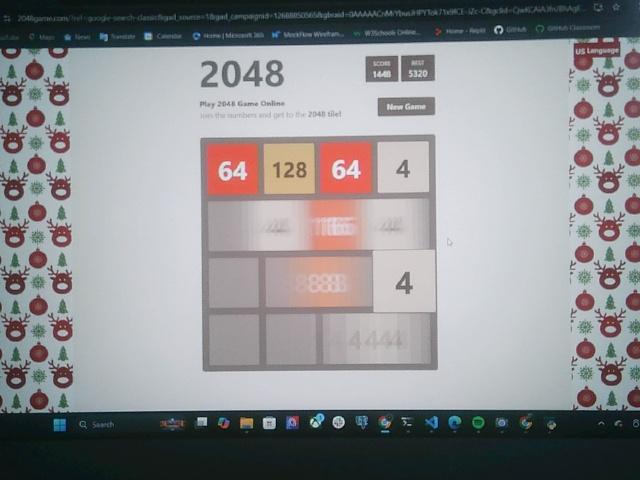board: (201, 137, 434, 366)
tile: (373, 250, 436, 313), (207, 143, 258, 195), (378, 141, 430, 192), (321, 142, 372, 193), (264, 144, 316, 194)
